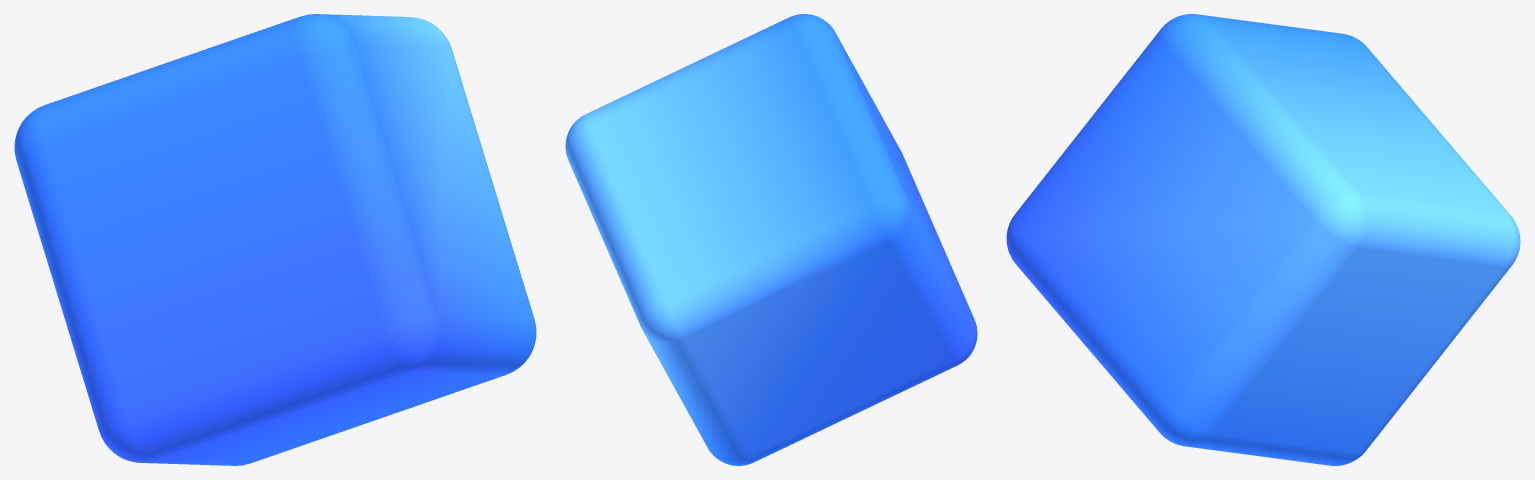
The picture shows the model from 3 angles, left to right: view 1: azimuth 30°, elevation 25°; view 2: azimuth 150°, elevation 25°; view 3: azimuth 270°, elevation 25°; orthographic projection. The views are drawn at different scales.
Visible parts, largest first — view 1: cube; view 2: cube; view 3: cube.
Part boxes in pixels (x1,y1,x2,y2): cube: (14,14,536,465); cube: (565,14,977,465); cube: (1006,14,1520,465).
Bounding box in the file's own units: 0.0683 × 0.0771 × 0.0809.
